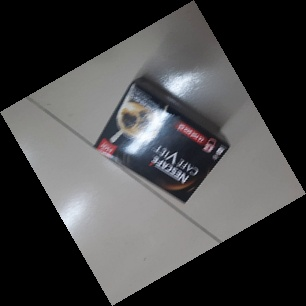CF Viet: (90, 77, 231, 206)
